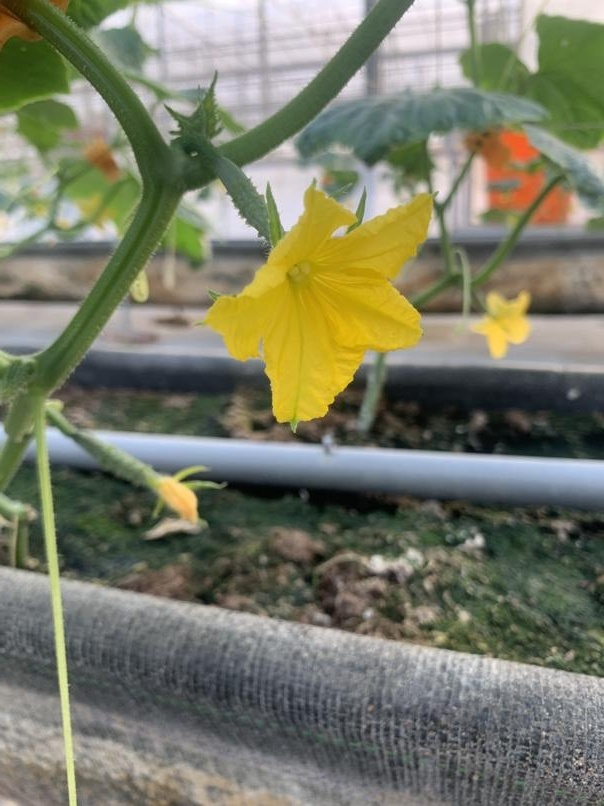flowering: (173, 131, 445, 433)
mature: (175, 130, 448, 435)
